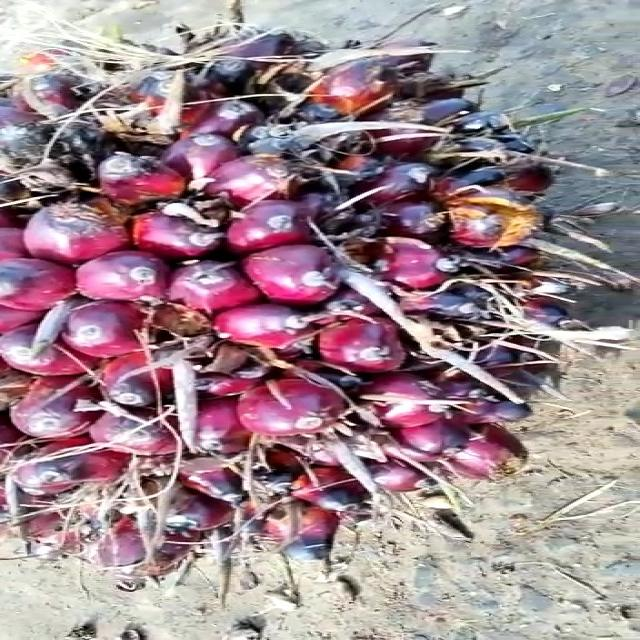palm oil: (0, 11, 611, 594)
